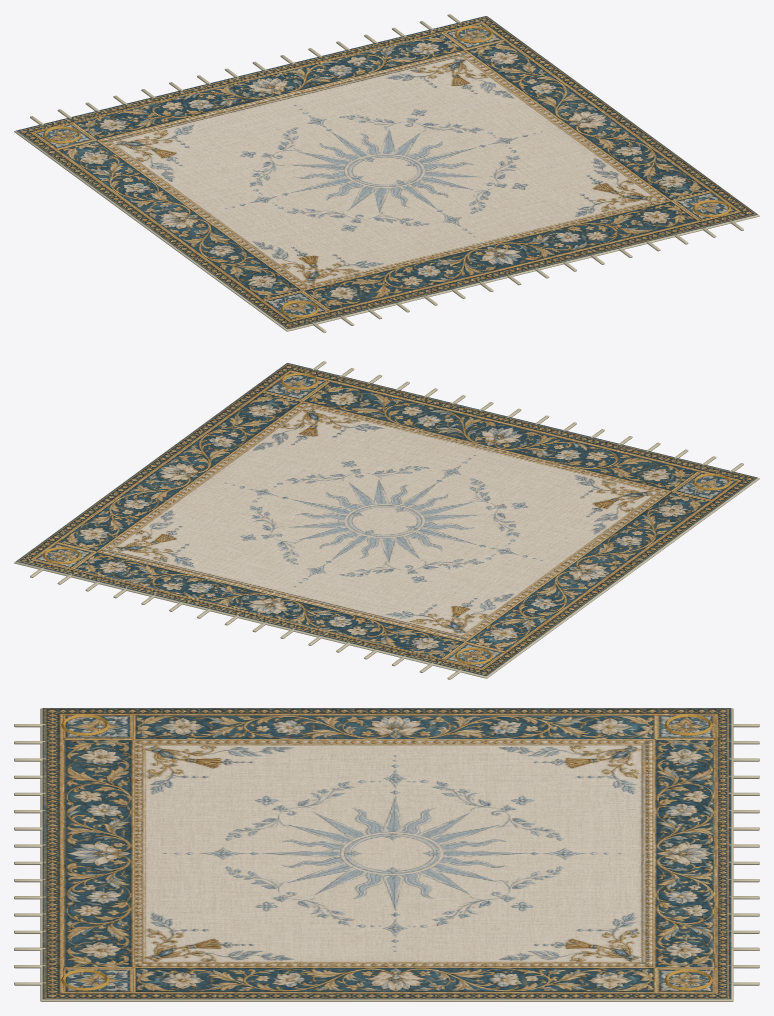
The model's file is carpet-l3.glb.
The picture shows the model from 3 angles, top to bottom: view 1: azimuth 30°, elevation 25°; view 2: azimuth 150°, elevation 25°; view 3: azimuth 270°, elevation 25°; orthographic projection. The views are drawn at different scales.
Visible parts, largest first — view 1: Woven cloth body; view 2: Woven cloth body; view 3: Woven cloth body.
Boxes of the visible parts, x1,y1,x2,y2 form: Woven cloth body: (14,14,759,332); Woven cloth body: (14,361,759,679); Woven cloth body: (14,708,759,1001).
Bounding box in the file's own units: 1.7 × 0.013 × 1.83.
Materials: 3 (1 with a texture image).
